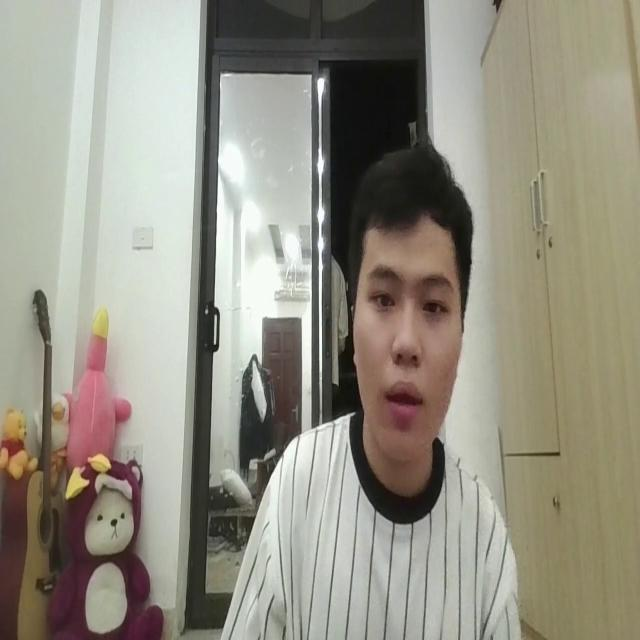student: (218, 139, 521, 640)
